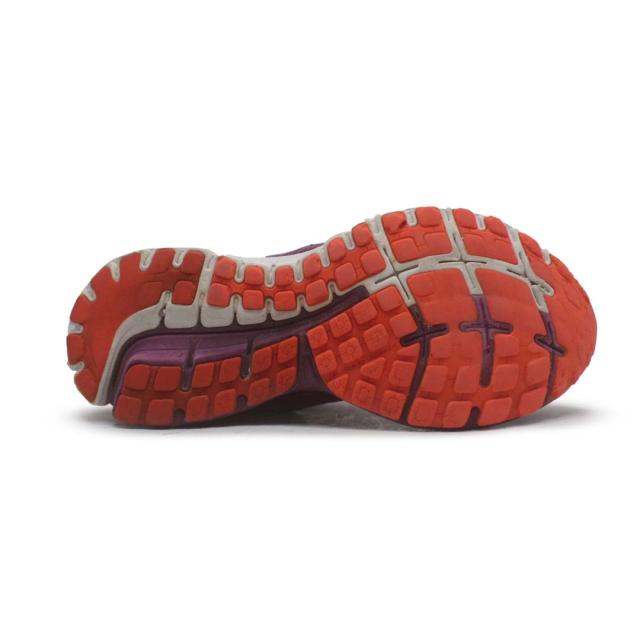outersole: (57, 209, 598, 428)
